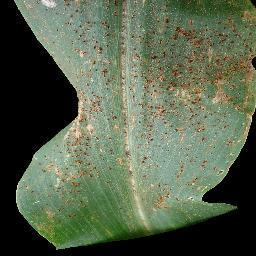Corn_Common_Rust: (9, 0, 251, 248)
